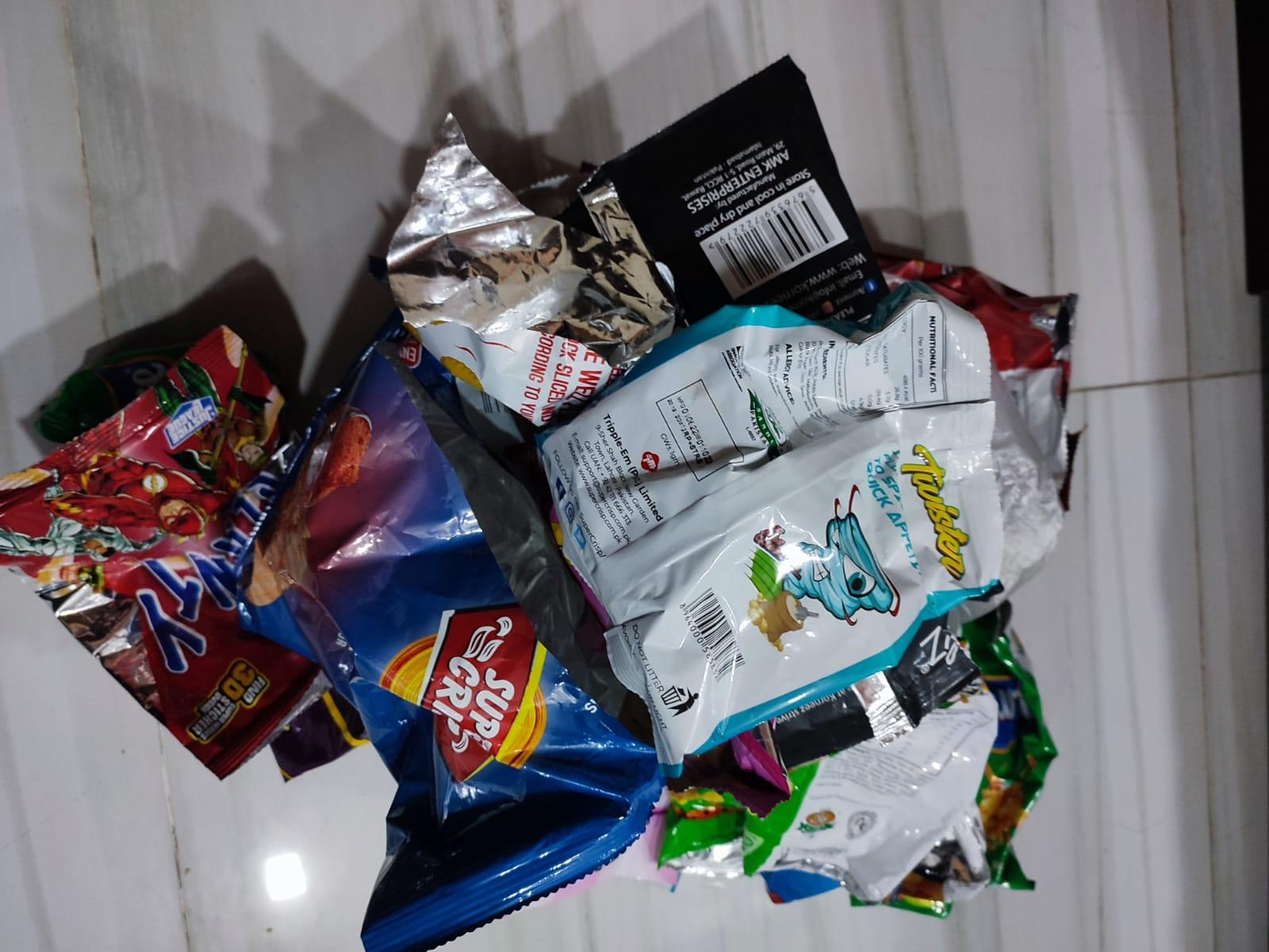garbage: (0, 37, 1169, 942)
